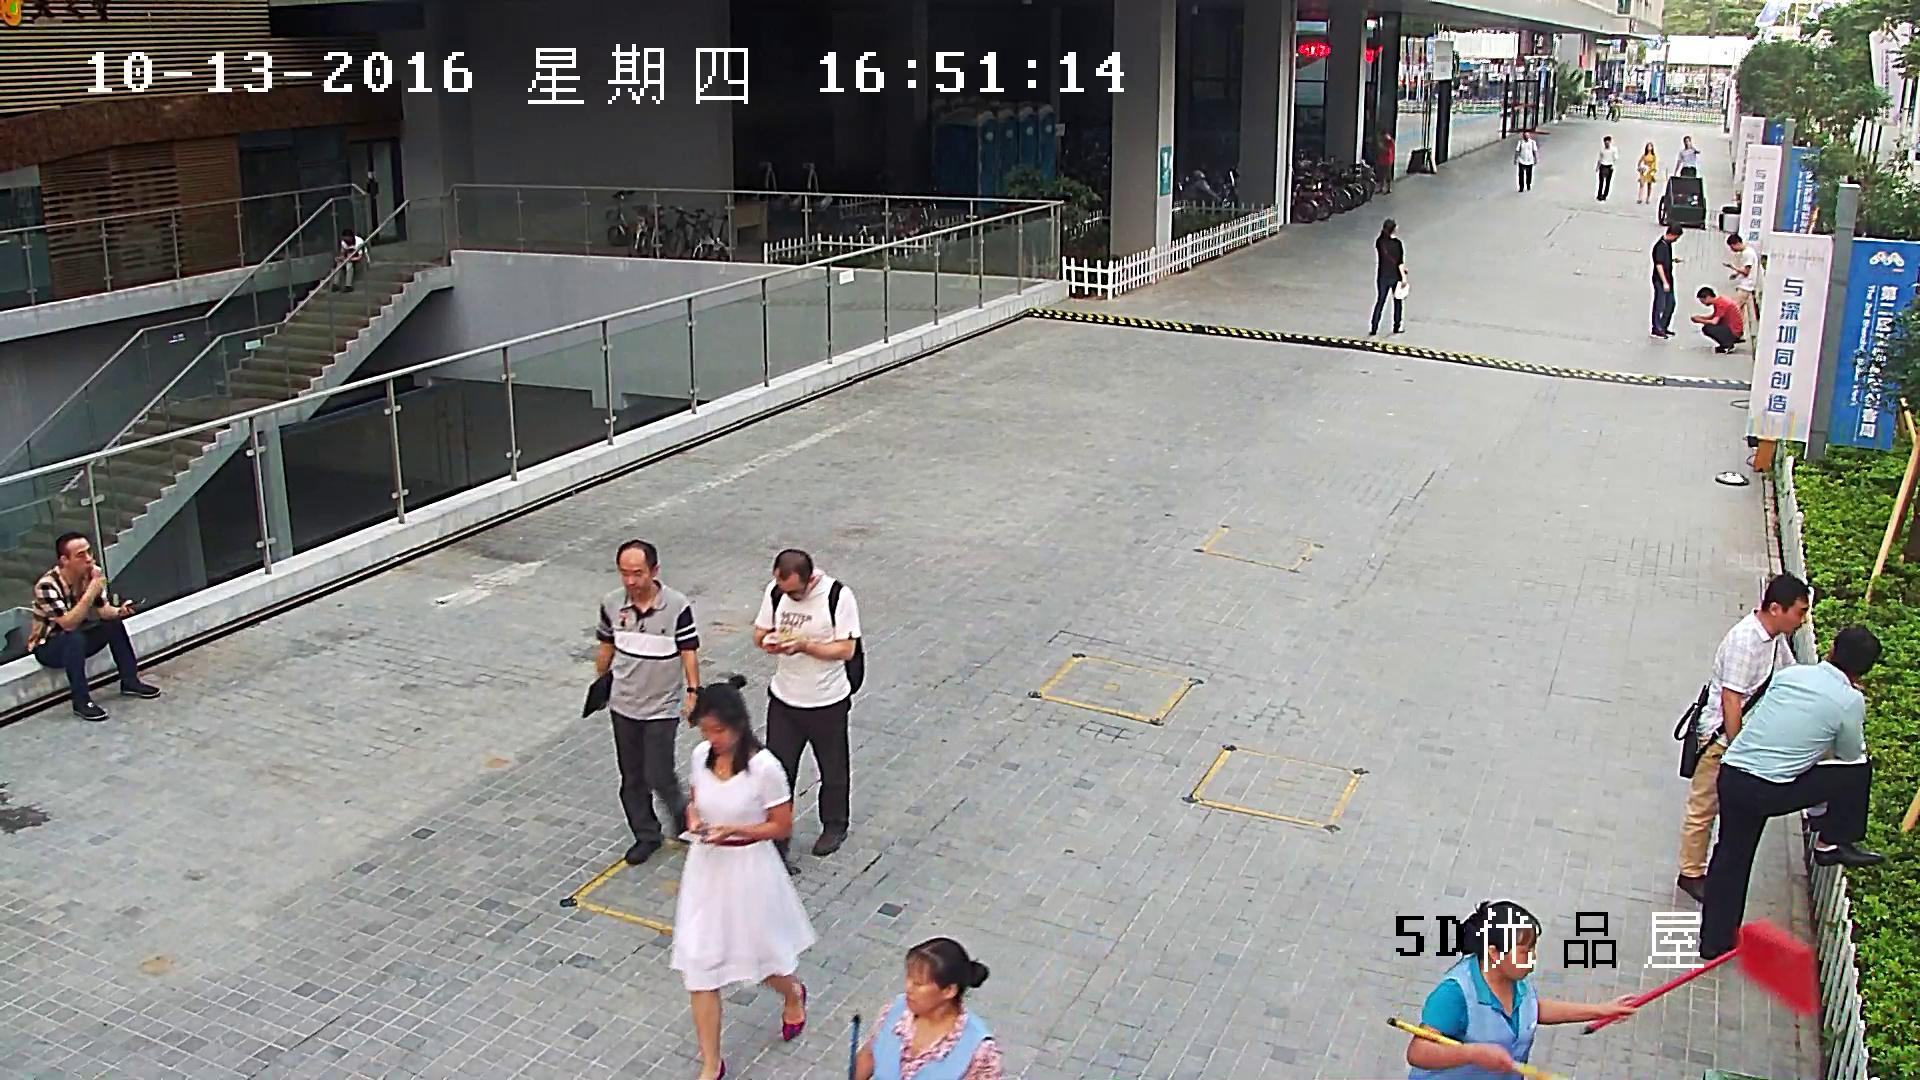person: (1386, 901, 1819, 1079), (1699, 625, 1885, 960), (670, 673, 816, 1080), (1674, 573, 1828, 900), (1407, 900, 1637, 1080), (583, 540, 699, 865), (751, 549, 865, 855), (26, 532, 160, 720), (850, 936, 1000, 1080), (1370, 218, 1409, 334), (1721, 233, 1757, 343), (1651, 222, 1684, 338), (1690, 286, 1742, 354), (331, 229, 369, 292), (1513, 131, 1537, 192), (1595, 135, 1617, 201), (1637, 142, 1658, 203), (1674, 135, 1702, 176), (1375, 130, 1394, 193), (1587, 89, 1597, 118), (1606, 91, 1615, 121)
